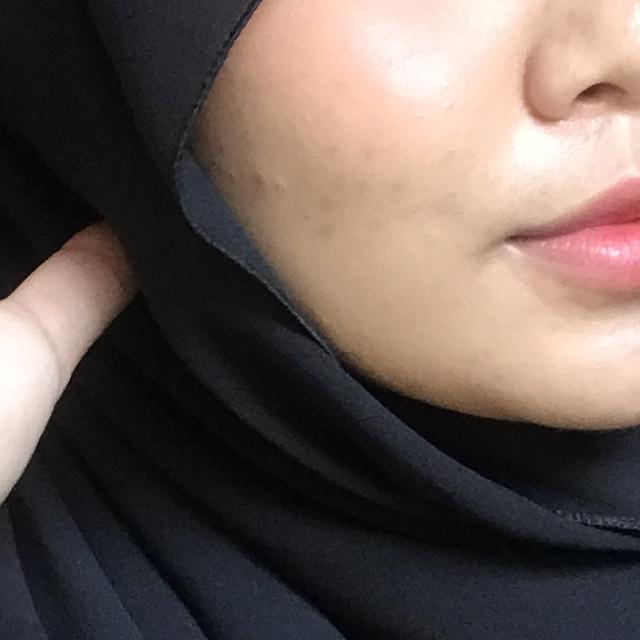mendengar: (0, 0, 330, 640)
